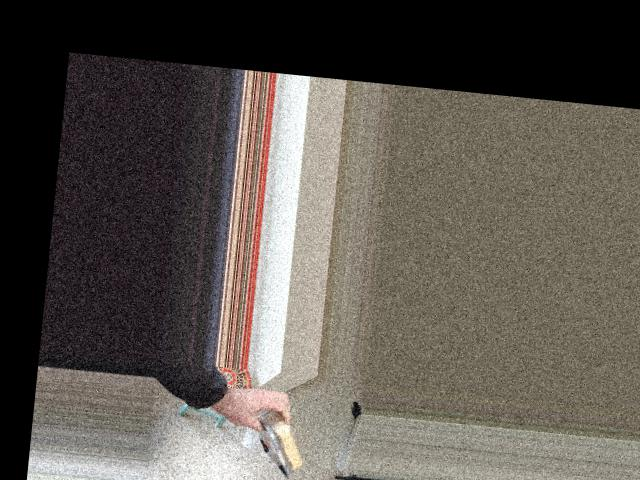cheese: (234, 375, 325, 480)
